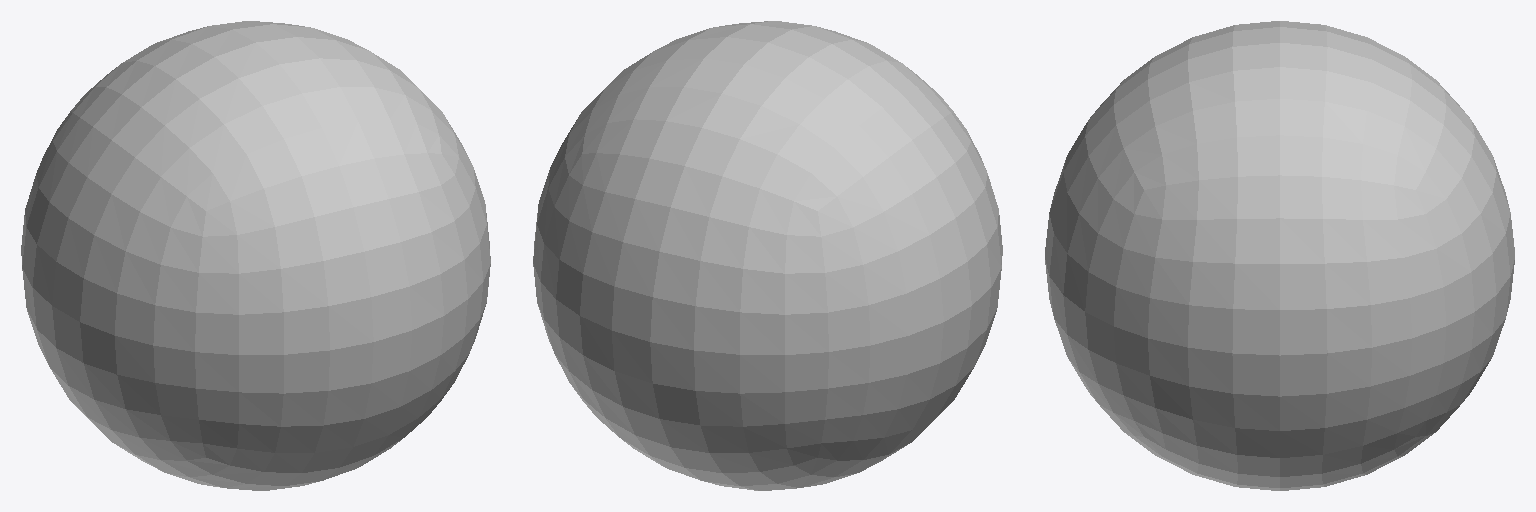
The model's file is soccer_ball.obj.
3 renders of one model, left to right at view 1: azimuth 30°, elevation 25°; view 2: azimuth 150°, elevation 25°; view 3: azimuth 270°, elevation 25°, orthographic.
Parts seen in each view (by area): view 1: soccer_ball; view 2: soccer_ball; view 3: soccer_ball.
Boxes of the visible parts, x1=… form: soccer_ball: x1=21, y1=21, x2=490, y2=490; soccer_ball: x1=533, y1=21, x2=1002, y2=490; soccer_ball: x1=1045, y1=21, x2=1514, y2=490.
Bounding box in the file's own units: 0.2196 × 0.2196 × 0.2196.